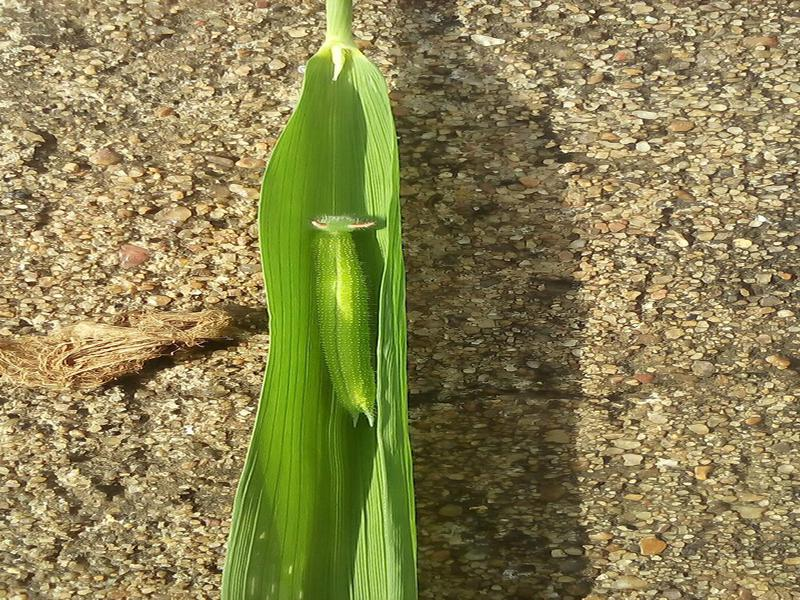Rice_horned_caterpillar: (263, 169, 418, 452)
